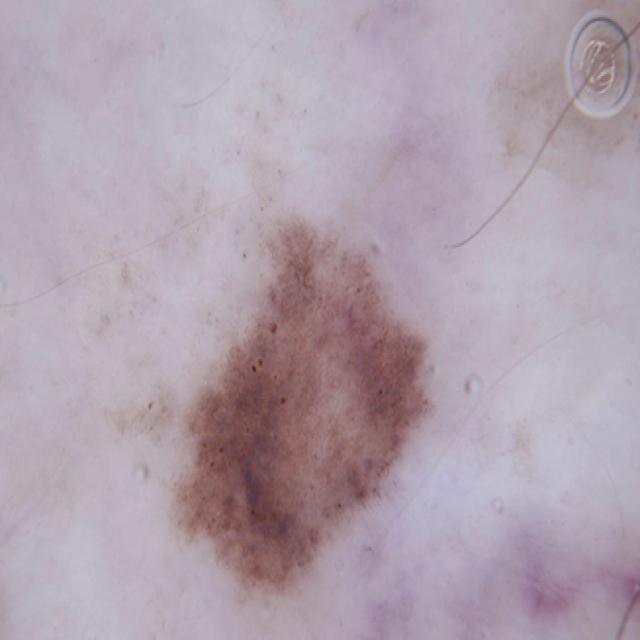Keratosis: (118, 146, 484, 640)
